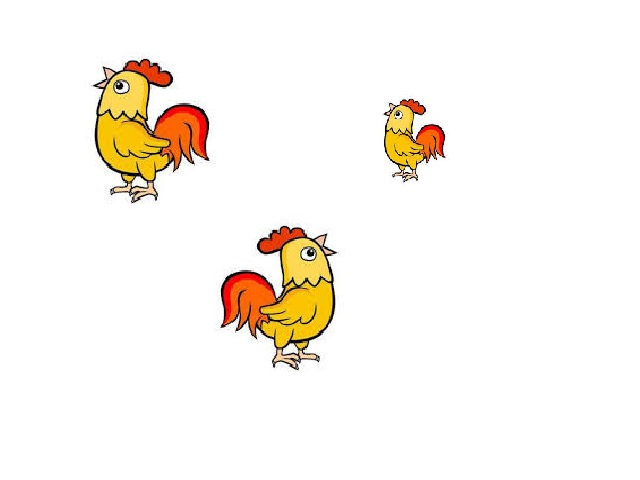crown: (254, 224, 307, 255), (126, 56, 177, 84), (406, 97, 426, 115)
eyes: (297, 248, 320, 262), (114, 76, 130, 94), (394, 109, 402, 119)
feet: (114, 177, 160, 203), (273, 348, 321, 372), (393, 168, 419, 182)
tail: (154, 103, 213, 170), (223, 272, 279, 337), (415, 124, 447, 164)
